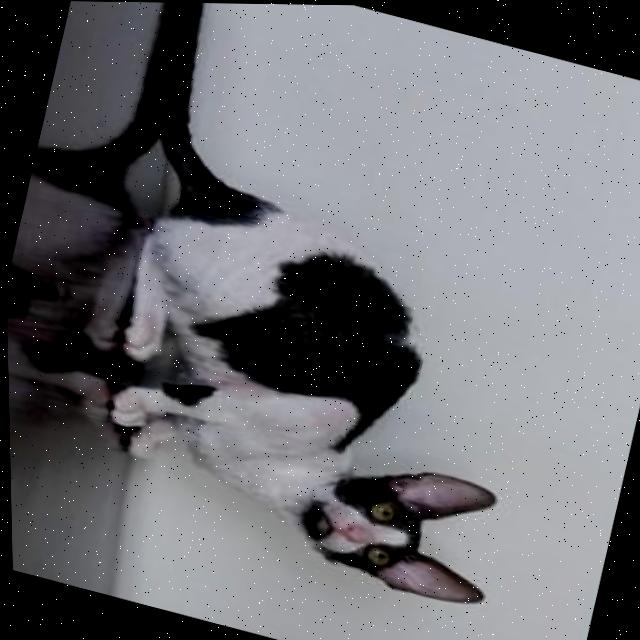Cornish Rex: (32, 0, 624, 620)
